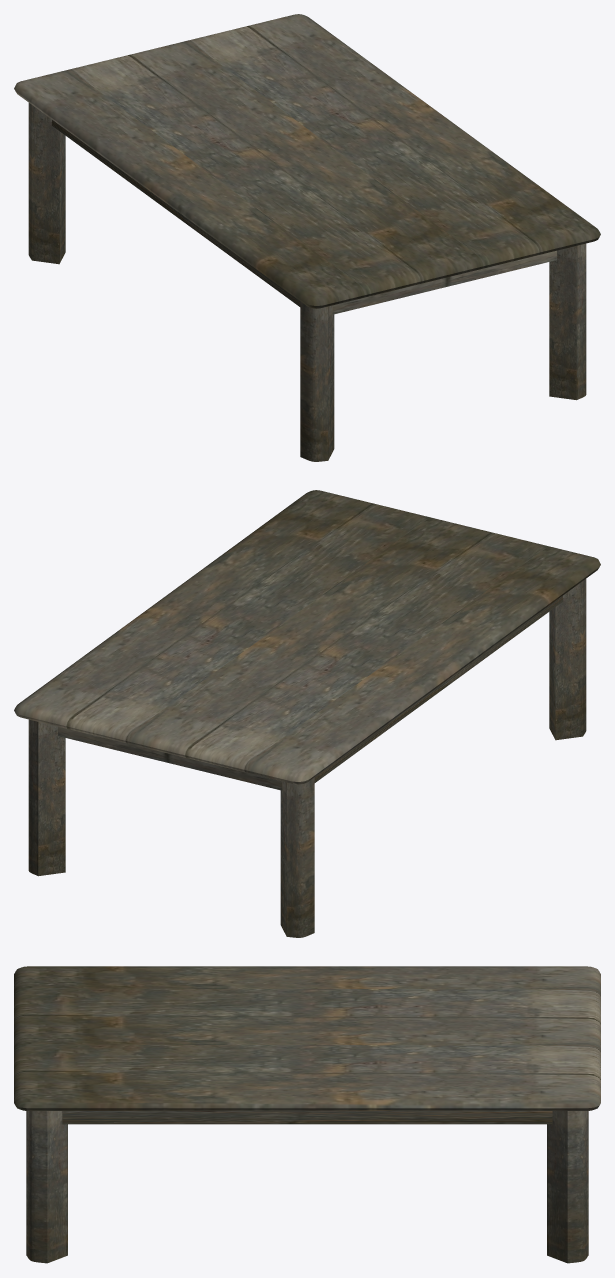
The model's file is table.glb.
3 views of the same model, one above another, from view 1: azimuth 30°, elevation 25°; view 2: azimuth 150°, elevation 25°; view 3: azimuth 270°, elevation 25° (orthographic). The views are drawn at different scales.
Visible parts, largest first — view 1: table.ms3d.mo; view 2: table.ms3d.mo; view 3: table.ms3d.mo.
Boxes of the visible parts, x1,y1,x2,y2 form: table.ms3d.mo: (14,14,600,461); table.ms3d.mo: (14,490,600,937); table.ms3d.mo: (14,966,600,1263).
Size of the model in its own units: 157 by 86.31 by 280.
Materials: 1 (1 with a texture image).
